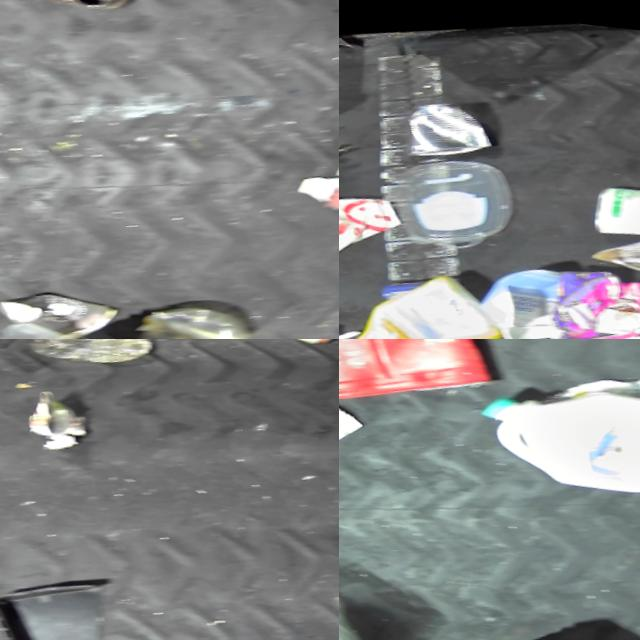can: (396, 87, 497, 163), (585, 162, 640, 242), (20, 377, 81, 440)
milk_jug: (476, 341, 640, 517)
non_white_jug: (339, 249, 508, 339), (339, 339, 488, 420)
plastic_bottle: (19, 339, 156, 374)
